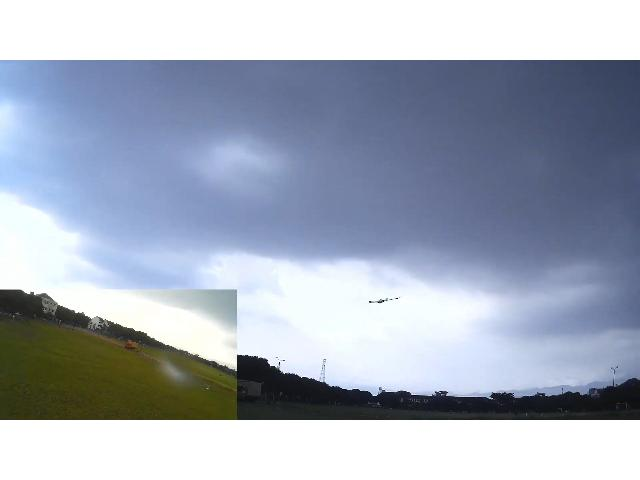Anti-Drone: (363, 284, 415, 310)
